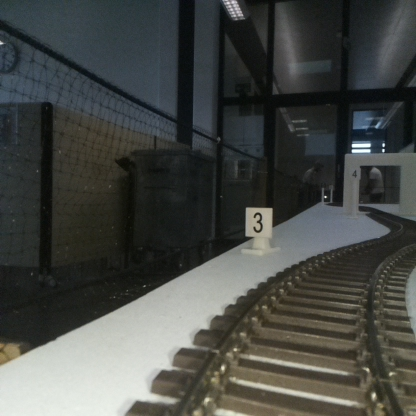white-info-4: (349, 166, 361, 217)
white-stop-3: (245, 208, 272, 252)
